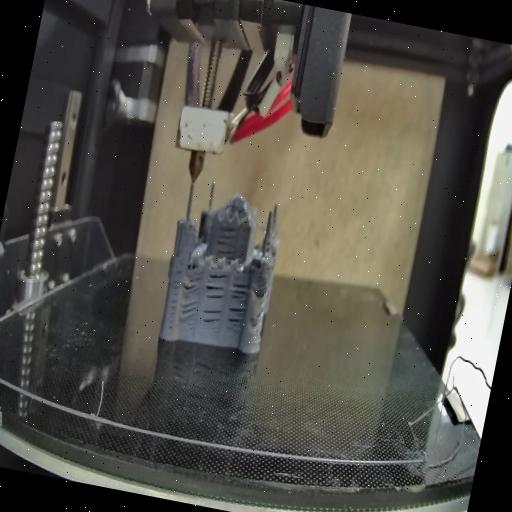cracks: (161, 263, 185, 333), (223, 277, 251, 335), (213, 224, 240, 258), (203, 271, 230, 301), (198, 304, 224, 332), (180, 272, 206, 298), (178, 298, 200, 328), (250, 307, 266, 332), (252, 278, 270, 300)
